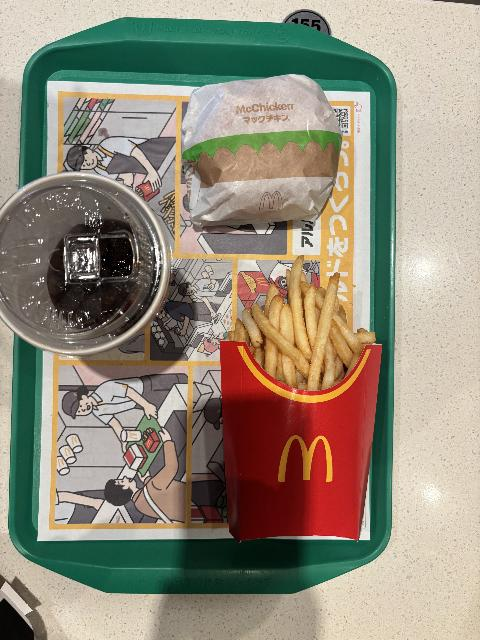burger: (181, 73, 343, 226)
drink: (0, 171, 173, 359)
fries: (218, 255, 383, 544)
